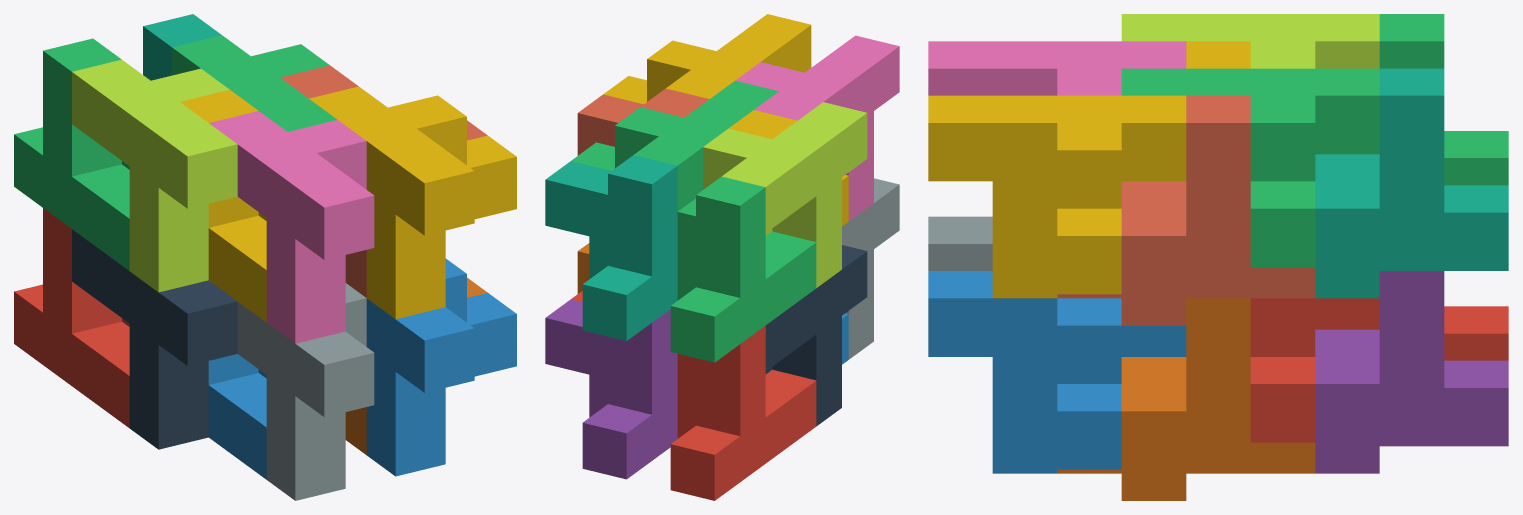
The model's file is tiling.obj.
3 renders of one model, left to right at view 1: azimuth 30°, elevation 25°; view 2: azimuth 150°, elevation 25°; view 3: azimuth 270°, elevation 25°, orthographic. The views are drawn at different scales.
Visible parts, largest first — view 1: copy_2_domain_8, copy_2_domain_3, copy_2_domain_4, copy_2_domain_6, copy_2_domain_1, copy_2_domain_2, copy_1_domain_3, copy_1_domain_1, copy_2_domain_7, copy_1_domain_4, copy_1_domain_2, copy_1_domain_7 (+2 smaller); view 2: copy_1_domain_3, copy_1_domain_7, copy_1_domain_1, copy_1_domain_5, copy_2_domain_3, copy_2_domain_4, copy_2_domain_1, copy_2_domain_8, copy_2_domain_7, copy_2_domain_2, copy_1_domain_8, copy_1_domain_4 (+1 smaller); view 3: copy_2_domain_8, copy_2_domain_6, copy_1_domain_7, copy_1_domain_5, copy_1_domain_8, copy_1_domain_6, copy_2_domain_7, copy_2_domain_4, copy_2_domain_5, copy_2_domain_3, copy_1_domain_3, copy_1_domain_1 (+2 smaller).
Boxes of the visible parts, x1=… form: copy_2_domain_8: x1=309, y1=86, x2=516, y2=319; copy_2_domain_3: x1=72, y1=59, x2=237, y2=292; copy_2_domain_4: x1=209, y1=111, x2=374, y2=343; copy_2_domain_6: x1=366, y1=258, x2=516, y2=476; copy_2_domain_1: x1=72, y1=229, x2=237, y2=449; copy_2_domain_2: x1=237, y1=283, x2=374, y2=500; copy_1_domain_3: x1=14, y1=38, x2=129, y2=270; copy_1_domain_1: x1=14, y1=208, x2=129, y2=427; copy_2_domain_7: x1=172, y1=35, x2=337, y2=131; copy_1_domain_4: x1=180, y1=89, x2=266, y2=322; copy_1_domain_2: x1=208, y1=354, x2=266, y2=479; copy_1_domain_7: x1=143, y1=14, x2=221, y2=80; copy_1_domain_3: x1=670, y1=176, x2=816, y2=362; copy_1_domain_7: x1=545, y1=155, x2=677, y2=340; copy_1_domain_1: x1=670, y1=326, x2=816, y2=500; copy_1_domain_5: x1=545, y1=299, x2=677, y2=479; copy_2_domain_3: x1=703, y1=102, x2=867, y2=287; copy_2_domain_4: x1=735, y1=35, x2=899, y2=221; copy_2_domain_1: x1=765, y1=245, x2=867, y2=426; copy_2_domain_8: x1=603, y1=14, x2=811, y2=104; copy_2_domain_7: x1=571, y1=80, x2=778, y2=211; copy_2_domain_2: x1=842, y1=178, x2=899, y2=359; copy_1_domain_8: x1=577, y1=88, x2=709, y2=155; copy_1_domain_4: x1=728, y1=110, x2=848, y2=226; copy_2_domain_8: x1=928, y1=95, x2=1186, y2=298; copy_2_domain_6: x1=928, y1=271, x2=1186, y2=473; copy_1_domain_7: x1=1315, y1=68, x2=1508, y2=298; copy_1_domain_5: x1=1315, y1=271, x2=1508, y2=473; copy_1_domain_8: x1=1057, y1=95, x2=1315, y2=325; copy_1_domain_6: x1=1057, y1=298, x2=1315, y2=500; copy_2_domain_7: x1=1121, y1=68, x2=1379, y2=267; copy_2_domain_4: x1=928, y1=41, x2=1186, y2=95; copy_2_domain_5: x1=1250, y1=298, x2=1379, y2=442; copy_2_domain_3: x1=1121, y1=14, x2=1379, y2=68; copy_1_domain_3: x1=1379, y1=14, x2=1508, y2=185; copy_1_domain_1: x1=1444, y1=306, x2=1508, y2=360.
Bounding box in the file's own units: 6 × 6 × 9.
